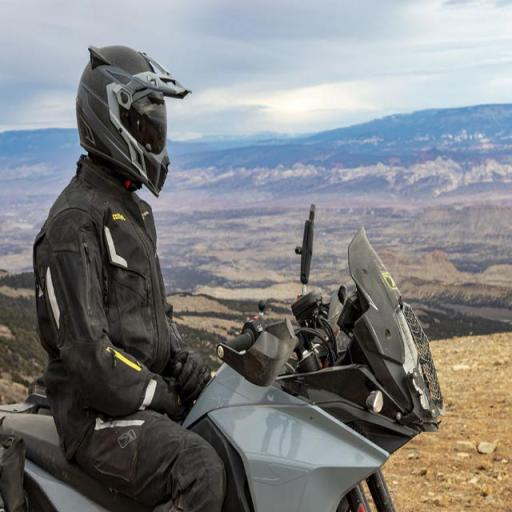Helmet: (72, 37, 183, 195)
Motor: (1, 295, 440, 512)
